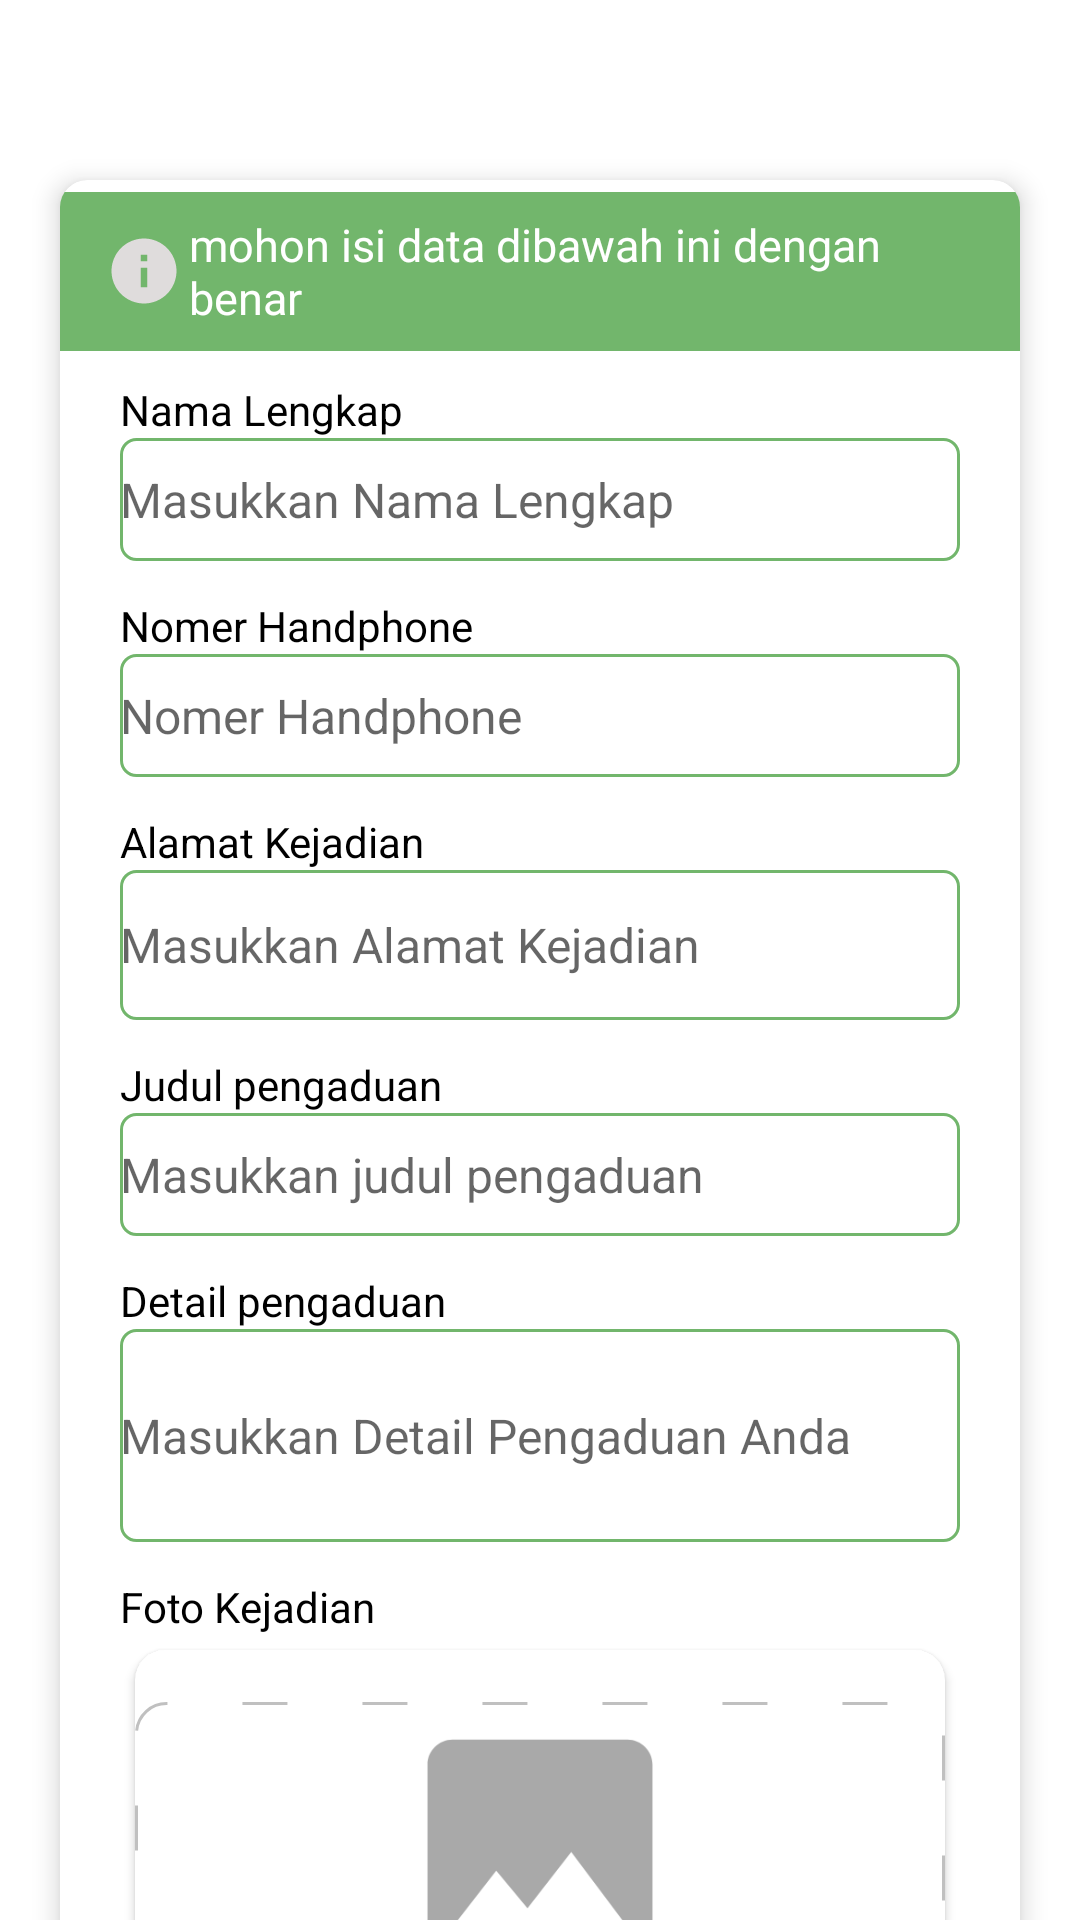

Named icons in this screenshot (1080 x 1920) and their centers, point (x, y):
info: point (144, 271)
